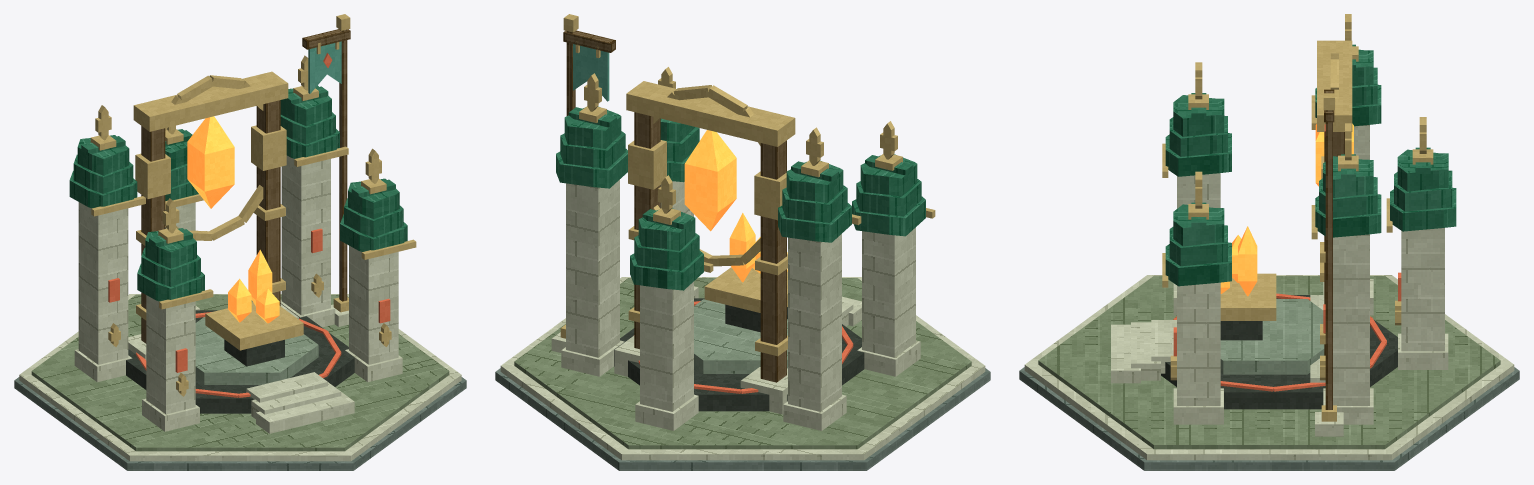
The model's file is elf_infernal_ritual_hex_v1.glb.
The picture shows the model from 3 angles, left to right: view 1: azimuth 30°, elevation 25°; view 2: azimuth 150°, elevation 25°; view 3: azimuth 270°, elevation 25°; orthographic projection. The views are drawn at different scales.
Visible parts, largest first — view 1: Elf_Infernal_Ritual_Hex_V1_Hall, Elf_Infernal_Ritual_Hex_V1_Foundation, Elf_Infernal_Ritual_Hex_V1_Roofs, Elf_Infernal_Ritual_Hex_V1_Focus, Elf_Infernal_Ritual_Hex_V1_Courtyard, Elf_Infernal_Ritual_Hex_V1_Faction, Elf_Infernal_Ritual_Hex_V1_Details, Elf_Infernal_Ritual_Hex_V1_Training; view 2: Elf_Infernal_Ritual_Hex_V1_Hall, Elf_Infernal_Ritual_Hex_V1_Foundation, Elf_Infernal_Ritual_Hex_V1_Roofs, Elf_Infernal_Ritual_Hex_V1_Focus, Elf_Infernal_Ritual_Hex_V1_Courtyard, Elf_Infernal_Ritual_Hex_V1_Faction, Elf_Infernal_Ritual_Hex_V1_Details, Elf_Infernal_Ritual_Hex_V1_Training; view 3: Elf_Infernal_Ritual_Hex_V1_Foundation, Elf_Infernal_Ritual_Hex_V1_Hall, Elf_Infernal_Ritual_Hex_V1_Roofs, Elf_Infernal_Ritual_Hex_V1_Courtyard, Elf_Infernal_Ritual_Hex_V1_Focus, Elf_Infernal_Ritual_Hex_V1_Faction, Elf_Infernal_Ritual_Hex_V1_Training, Elf_Infernal_Ritual_Hex_V1_Details.
Part boxes in pixels (left/top/right/bottom): Elf_Infernal_Ritual_Hex_V1_Hall: left=74, top=71, right=402, bottom=431; Elf_Infernal_Ritual_Hex_V1_Foundation: left=14, top=294, right=466, bottom=470; Elf_Infernal_Ritual_Hex_V1_Roofs: left=69, top=55, right=416, bottom=309; Elf_Infernal_Ritual_Hex_V1_Focus: left=108, top=75, right=390, bottom=372; Elf_Infernal_Ritual_Hex_V1_Courtyard: left=126, top=310, right=354, bottom=433; Elf_Infernal_Ritual_Hex_V1_Faction: left=302, top=14, right=350, bottom=326; Elf_Infernal_Ritual_Hex_V1_Details: left=108, top=204, right=391, bottom=396; Elf_Infernal_Ritual_Hex_V1_Training: left=136, top=312, right=341, bottom=397; Elf_Infernal_Ritual_Hex_V1_Hall: left=561, top=81, right=920, bottom=430; Elf_Infernal_Ritual_Hex_V1_Foundation: left=495, top=277, right=990, bottom=470; Elf_Infernal_Ritual_Hex_V1_Roofs: left=556, top=67, right=935, bottom=290; Elf_Infernal_Ritual_Hex_V1_Focus: left=628, top=85, right=787, bottom=332; Elf_Infernal_Ritual_Hex_V1_Courtyard: left=614, top=296, right=864, bottom=411; Elf_Infernal_Ritual_Hex_V1_Faction: left=551, top=14, right=615, bottom=352; Elf_Infernal_Ritual_Hex_V1_Details: left=628, top=226, right=787, bottom=356; Elf_Infernal_Ritual_Hex_V1_Training: left=638, top=301, right=853, bottom=393; Elf_Infernal_Ritual_Hex_V1_Foundation: left=1019, top=275, right=1519, bottom=470; Elf_Infernal_Ritual_Hex_V1_Hall: left=1173, top=40, right=1448, bottom=424; Elf_Infernal_Ritual_Hex_V1_Roofs: left=1162, top=14, right=1456, bottom=287; Elf_Infernal_Ritual_Hex_V1_Courtyard: left=1111, top=295, right=1397, bottom=409; Elf_Infernal_Ritual_Hex_V1_Focus: left=1173, top=53, right=1401, bottom=356; Elf_Infernal_Ritual_Hex_V1_Faction: left=1315, top=89, right=1343, bottom=436; Elf_Infernal_Ritual_Hex_V1_Training: left=1173, top=293, right=1386, bottom=391; Elf_Infernal_Ritual_Hex_V1_Details: left=1170, top=242, right=1401, bottom=380.
Bounding box in the file's own units: 1.59 × 1.44 × 1.84.
Materials: 1 (1 with a texture image).
